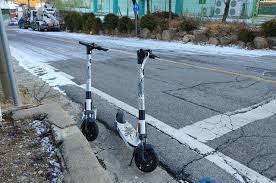kick_board: (113, 48, 161, 171), (72, 42, 108, 142)
kick_handler: (79, 42, 109, 53), (136, 49, 159, 63)
kick_neck: (137, 65, 146, 132), (86, 55, 93, 110)
kick_wheel: (134, 146, 157, 171), (82, 120, 98, 141)
